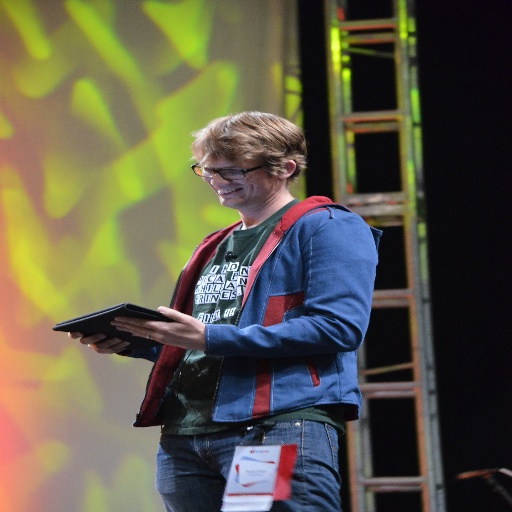hand: (96, 299, 230, 357), (66, 332, 130, 353)
